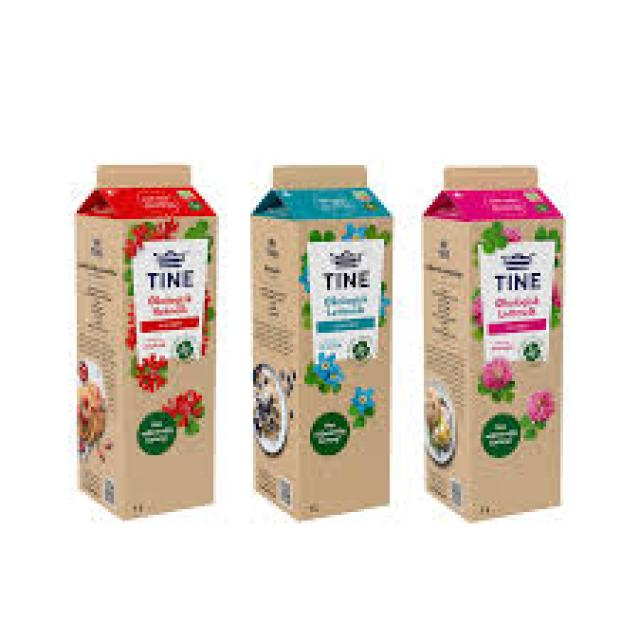milk: (406, 127, 586, 550), (63, 108, 237, 544), (243, 123, 406, 551)
